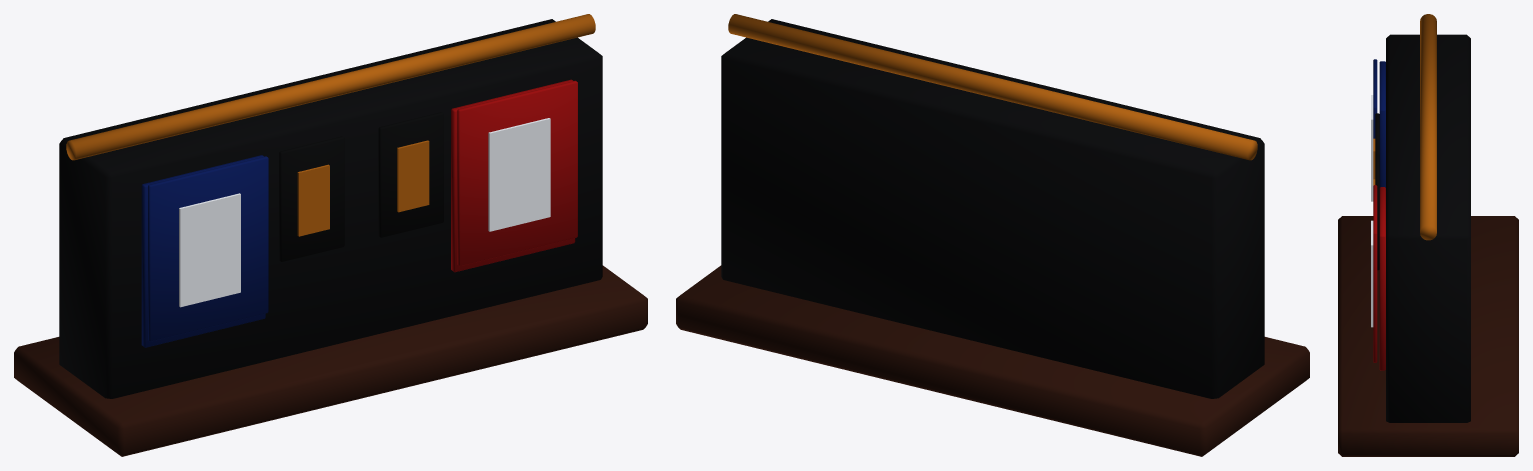
File: cozy_tt_scoreboard_flip.obj
3 views of the same model, side by side, from view 1: azimuth 30°, elevation 25°; view 2: azimuth 150°, elevation 25°; view 3: azimuth 270°, elevation 25° (orthographic). The views are drawn at different scales.
Parts seen in each view (by area): view 1: cozy_tt_scoreboard_flip_Mesh; view 2: cozy_tt_scoreboard_flip_Mesh; view 3: cozy_tt_scoreboard_flip_Mesh.
Boxes of the visible parts, x1,y1,x2,y2 form: cozy_tt_scoreboard_flip_Mesh: [14, 14, 647, 456]; cozy_tt_scoreboard_flip_Mesh: [676, 14, 1309, 456]; cozy_tt_scoreboard_flip_Mesh: [1338, 14, 1518, 456].
Bounding box in the file's own units: 0.48 × 0.2399 × 0.17.
